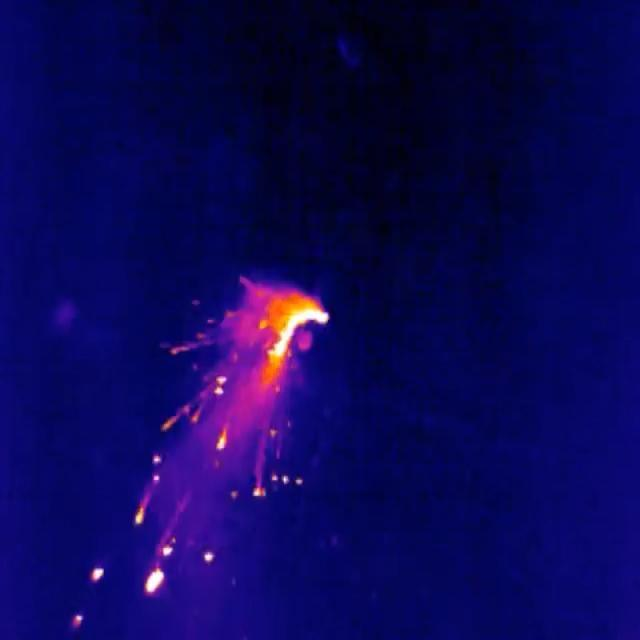fire: (231, 280, 331, 398)
